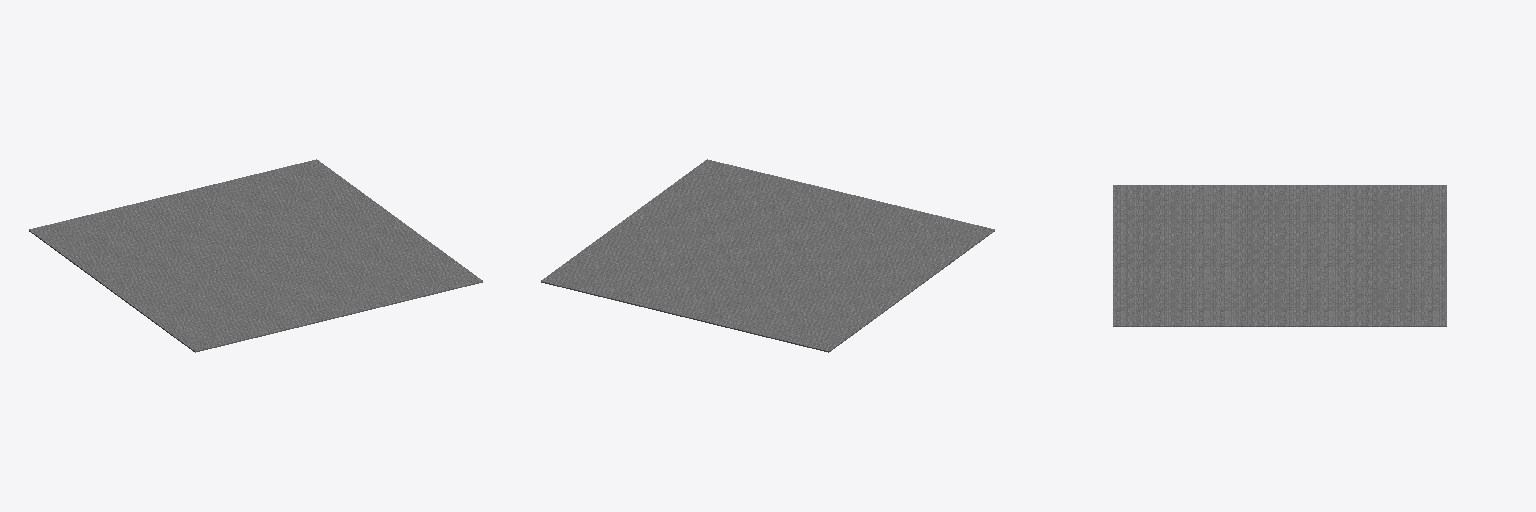
The picture shows the model from 3 angles: view 1: azimuth 30°, elevation 25°; view 2: azimuth 150°, elevation 25°; view 3: azimuth 270°, elevation 25°; orthographic projection.
Parts seen in each view (by area): view 1: Box001; view 2: Box001; view 3: Box001.
Part boxes in pixels (x1,y1,x2,y2): Box001: (29,159,482,352); Box001: (541,159,994,352); Box001: (1113,185,1446,326).
Bounding box in the file's own units: 250 × 1 × 250.
1 materials, 1 textured.